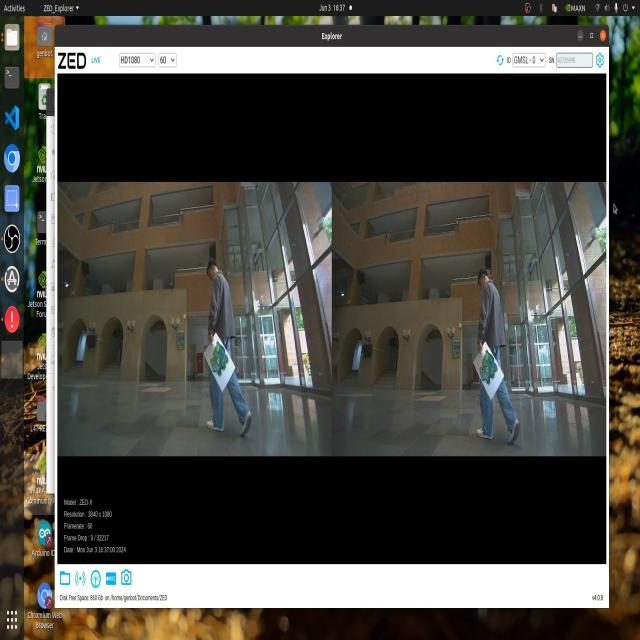green: (475, 348, 504, 397), (208, 338, 231, 378)
